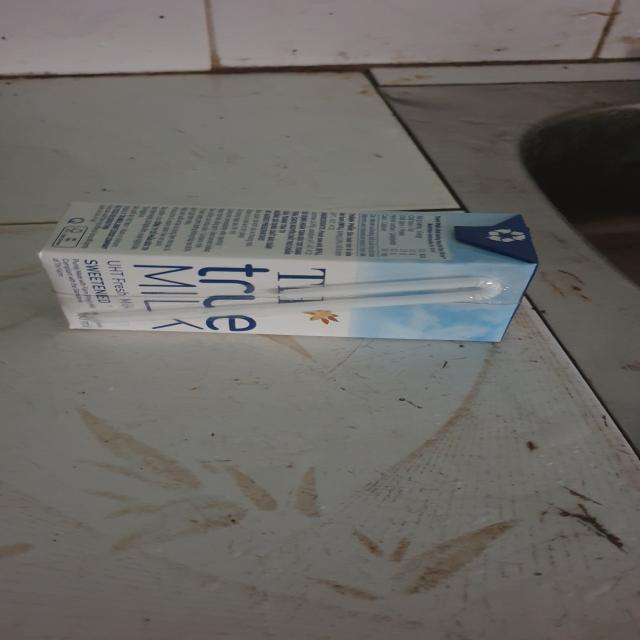TH: (36, 203, 536, 343)
